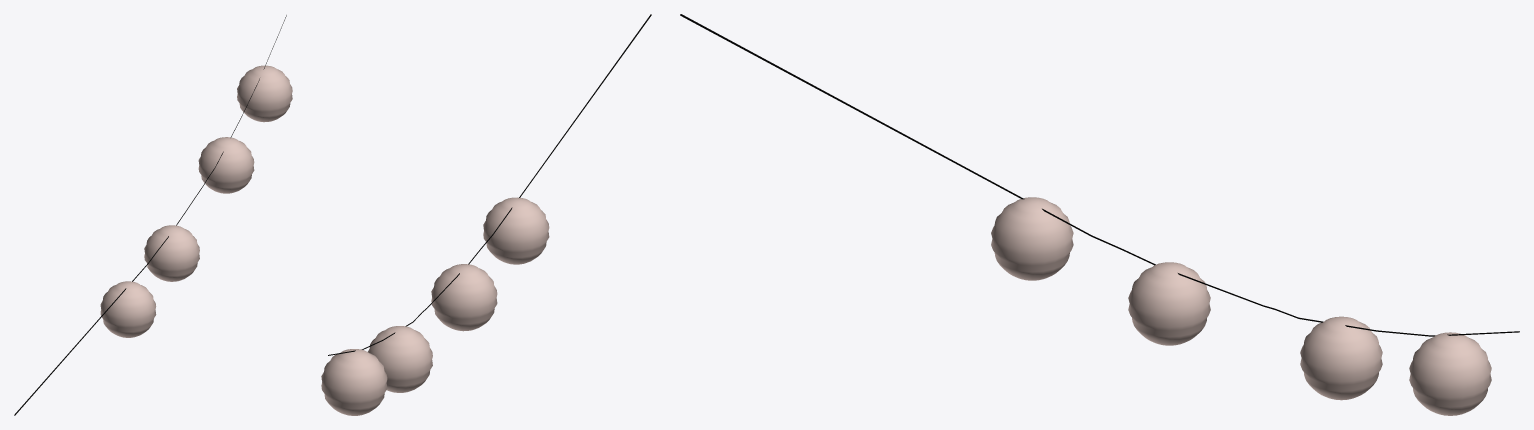
Rendered from Lights.fbx.
3 renders of one model, left to right at view 1: azimuth 30°, elevation 25°; view 2: azimuth 210°, elevation 25°; view 3: azimuth 270°, elevation 25°, orthographic. The views are drawn at different scales.
Parts seen in each view (by area): view 1: BallLight2, BallLight3, BallLight1, BallLight, Wire; view 2: BallLight, BallLight3, BallLight1, BallLight2, Wire; view 3: BallLight3, BallLight2, BallLight1, BallLight, Wire.
Boxes of the visible parts, x1,y1,x2,y2 form: BallLight2: [198, 137, 254, 193]; BallLight3: [237, 65, 292, 122]; BallLight1: [144, 225, 199, 281]; BallLight: [100, 281, 156, 337]; Wire: [14, 15, 286, 415]; BallLight: [483, 197, 549, 264]; BallLight3: [321, 349, 387, 415]; BallLight1: [431, 264, 497, 331]; BallLight2: [368, 326, 432, 392]; Wire: [328, 14, 651, 355]; BallLight3: [1409, 332, 1491, 415]; BallLight2: [1300, 316, 1382, 400]; BallLight1: [1128, 262, 1210, 345]; BallLight: [991, 197, 1073, 280]; Wire: [680, 14, 1519, 336].
Size of the model in its own units: 8.76 by 1.82 by 7.76.
